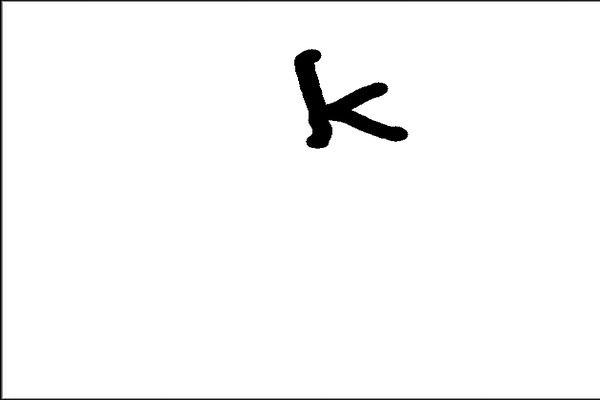K: (284, 42, 414, 156)
